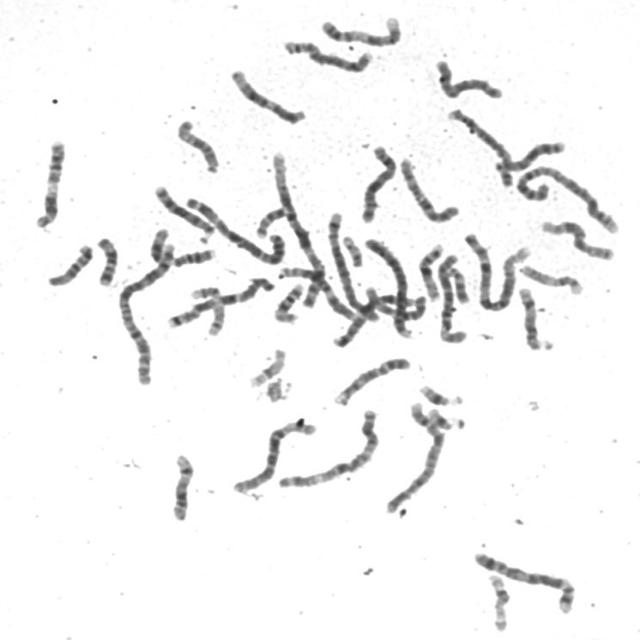A1: (267, 147, 326, 312), (459, 228, 529, 312)
A2: (113, 230, 178, 387), (511, 160, 623, 236)
A3: (272, 403, 382, 490), (182, 192, 287, 266)
B4: (379, 401, 448, 516), (360, 233, 416, 341)
B5: (468, 546, 578, 616), (322, 206, 379, 324)
C10: (394, 153, 462, 225), (366, 284, 428, 322)
C11: (29, 134, 68, 230), (141, 224, 216, 267)
C12: (274, 262, 360, 322), (225, 64, 308, 126)
C6: (227, 415, 319, 495), (434, 252, 469, 345)
C7: (162, 273, 278, 330), (333, 293, 419, 349)
C8: (442, 104, 516, 190), (278, 35, 375, 74)
C9: (328, 353, 412, 407), (317, 12, 404, 48)
D13: (149, 180, 216, 242), (492, 136, 567, 174)
D14: (513, 282, 556, 353), (166, 450, 196, 522)
D15: (540, 219, 614, 264), (172, 115, 222, 175)
E16: (414, 239, 446, 302), (270, 279, 306, 324)
E17: (516, 260, 586, 296), (484, 570, 512, 634)
E18: (43, 239, 95, 288), (91, 232, 120, 288)
F19: (245, 344, 289, 388), (202, 299, 232, 340)
F20: (251, 202, 290, 240), (444, 262, 471, 304)
G21: (414, 380, 465, 407), (423, 403, 468, 432)
G22: (336, 230, 366, 268), (186, 281, 224, 301)
X: (355, 140, 399, 224), (431, 55, 505, 101)
